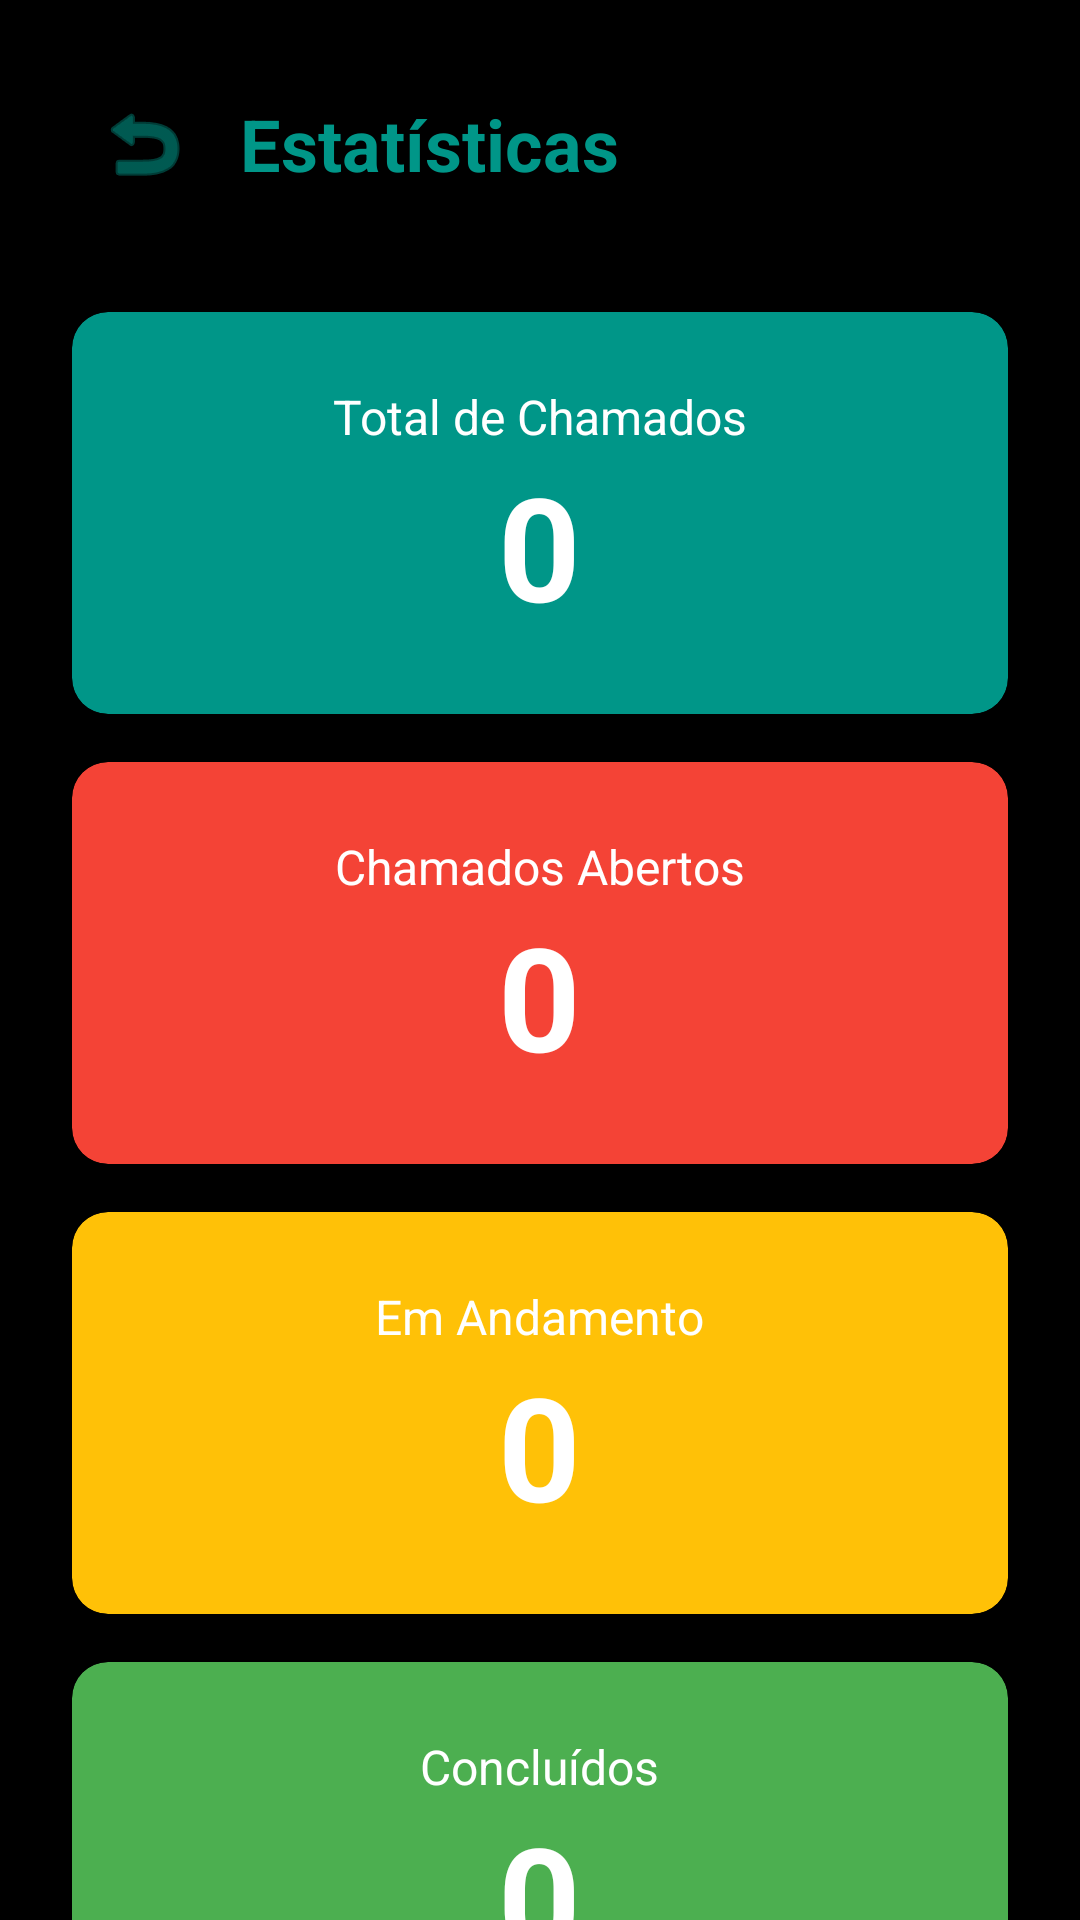

Point at icon controls on the screen. Image size 1080w x 1920h, points as point (x, y).
Voltar: point (145, 145)
